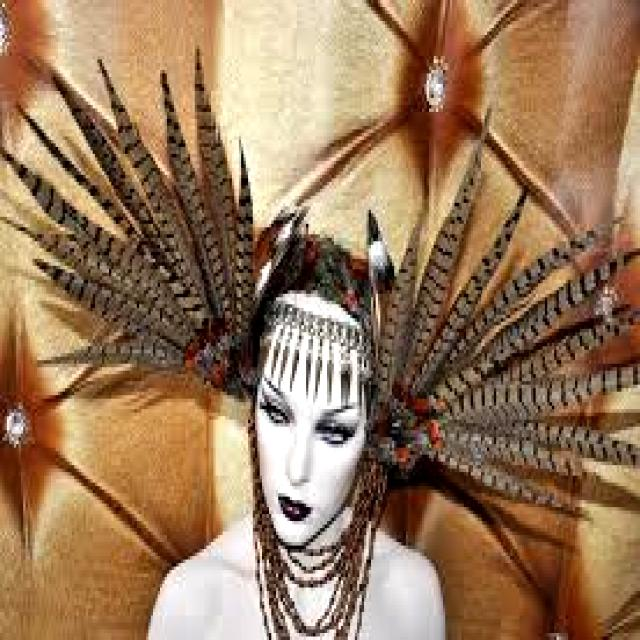Phasianus Colchicus: (413, 183, 528, 393), (402, 109, 489, 385), (379, 215, 419, 399), (232, 142, 255, 335)
